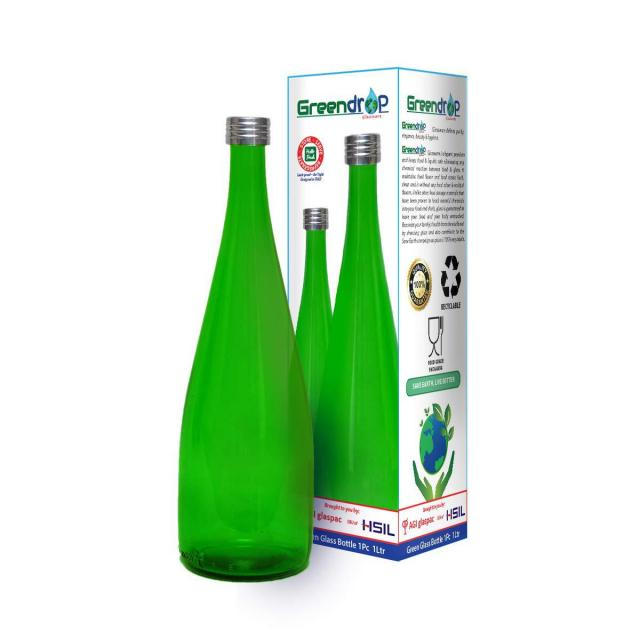non-organic waste: (171, 109, 316, 584)
